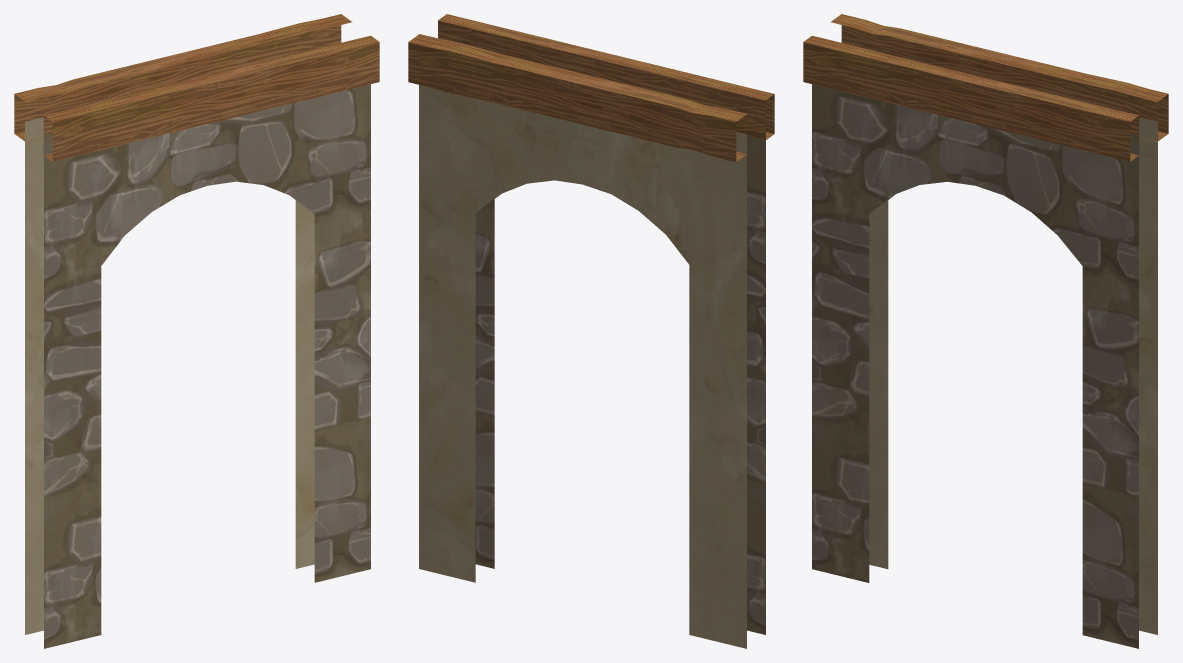
The model's file is Wall_UnevenBrick_Door_Round.glb.
3 renders of one model, left to right at view 1: azimuth 30°, elevation 25°; view 2: azimuth 150°, elevation 25°; view 3: azimuth 330°, elevation 25°, orthographic.
Parts seen in each view (by area): view 1: Wall_UnevenBrick_Door_Round; view 2: Wall_UnevenBrick_Door_Round; view 3: Wall_UnevenBrick_Door_Round.
Part boxes in pixels (x1=…): Wall_UnevenBrick_Door_Round: x1=14, y1=14, x2=379, y2=648; Wall_UnevenBrick_Door_Round: x1=408, y1=14, x2=774, y2=648; Wall_UnevenBrick_Door_Round: x1=803, y1=14, x2=1168, y2=648.
Bounding box in the file's own units: 2 × 3.12 × 0.4064.
3 materials, 3 textured.
